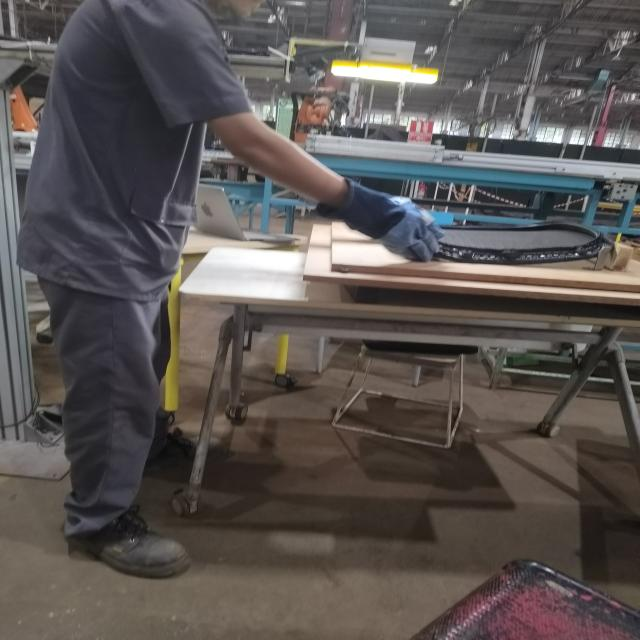Gloves-Detection: (331, 171, 447, 262)
